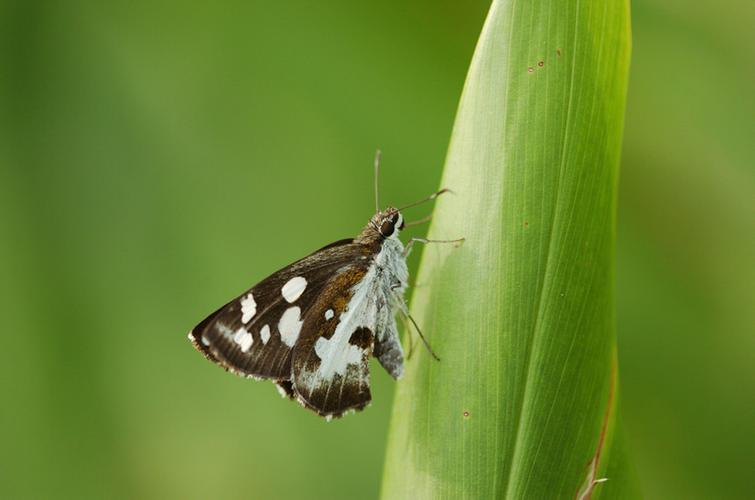Hesperiidae: (182, 140, 463, 424)
